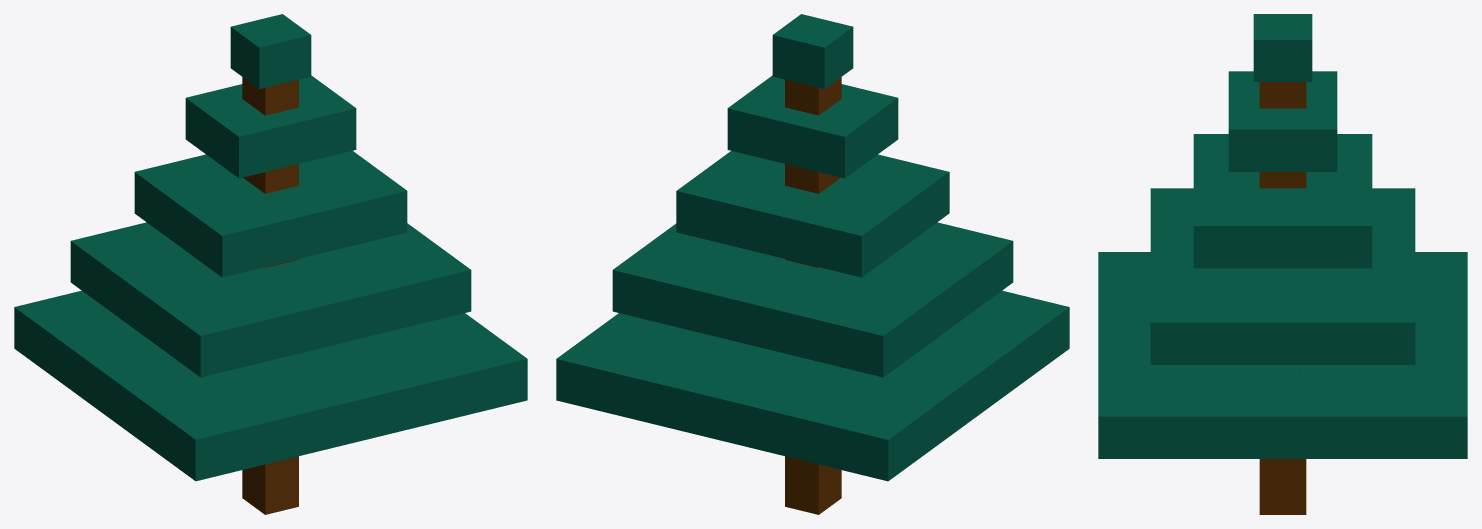
File: tree.dae
The picture shows the model from 3 angles, left to right: view 1: azimuth 30°, elevation 25°; view 2: azimuth 150°, elevation 25°; view 3: azimuth 270°, elevation 25°; orthographic projection.
Visible parts, largest first — view 1: Cube.001, Cube.002, Cube.003, Cube.004, Cube, Cube.005; view 2: Cube.001, Cube.002, Cube.003, Cube.004, Cube, Cube.005; view 3: Cube.001, Cube.002, Cube.003, Cube.004, Cube, Cube.005.
Part boxes in pixels (x1,y1,x2,y2): Cube.001: [14, 290, 527, 481]; Cube.002: [70, 222, 471, 377]; Cube.003: [134, 151, 407, 277]; Cube.004: [185, 75, 356, 178]; Cube: [242, 77, 298, 514]; Cube.005: [230, 14, 311, 88]; Cube.001: [556, 290, 1069, 481]; Cube.002: [612, 222, 1013, 377]; Cube.003: [676, 151, 949, 277]; Cube.004: [727, 75, 898, 178]; Cube: [785, 77, 841, 514]; Cube.005: [772, 14, 853, 88]; Cube.001: [1098, 252, 1467, 458]; Cube.002: [1150, 188, 1415, 364]; Cube.003: [1193, 134, 1372, 268]; Cube.004: [1228, 71, 1337, 171]; Cube: [1259, 82, 1306, 514]; Cube.005: [1253, 14, 1312, 81].
Size of the model in its own units: 1.87 by 1.77 by 2.54.
Materials: 6 (6 with a texture image).
